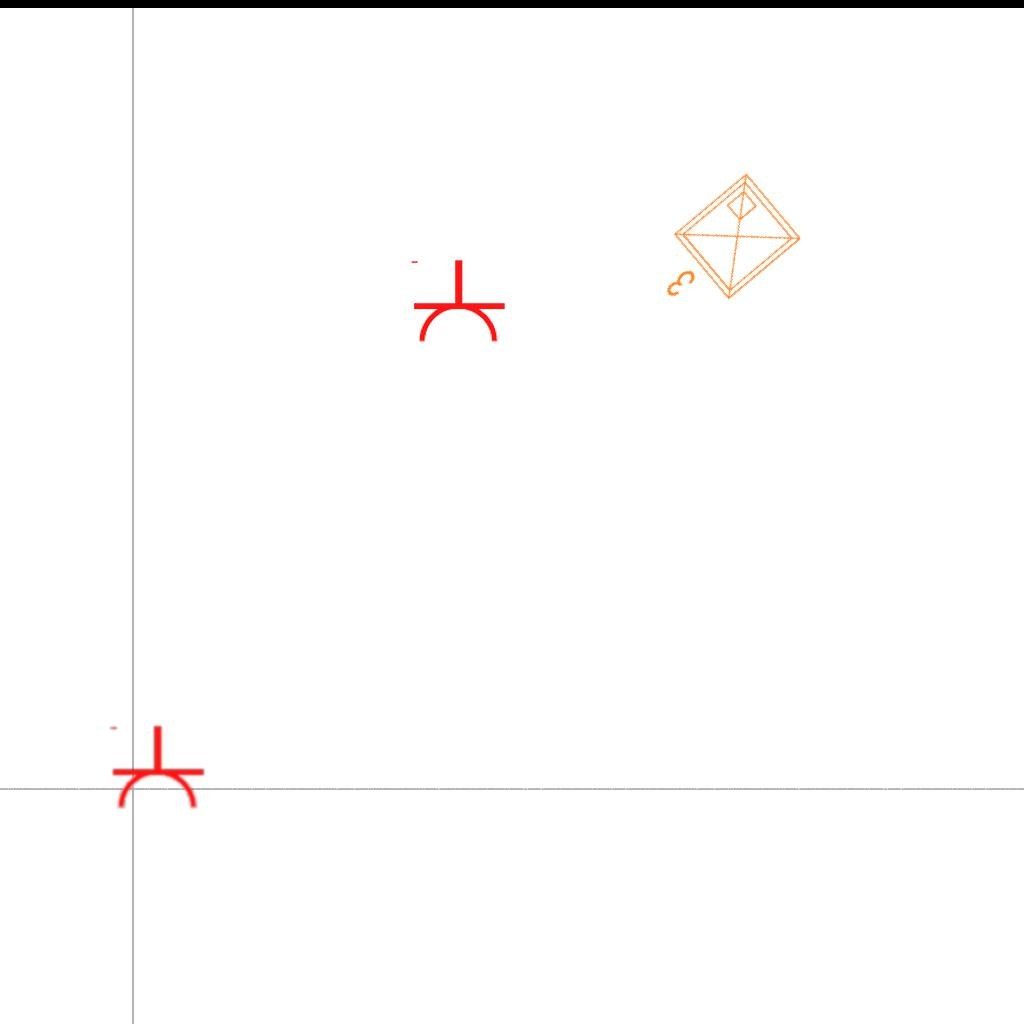Einbaudownlights_LED_Konferenzraeume: (632, 162, 814, 340)
Schukosteckdose_einfach: (407, 258, 507, 345), (106, 724, 206, 811)
